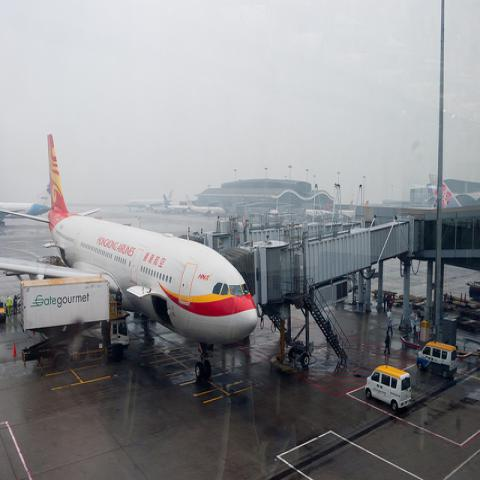bus: (364, 365, 412, 411), (416, 341, 457, 378)
car: (412, 299, 425, 310)
truck: (20, 276, 130, 374), (415, 340, 458, 378)
